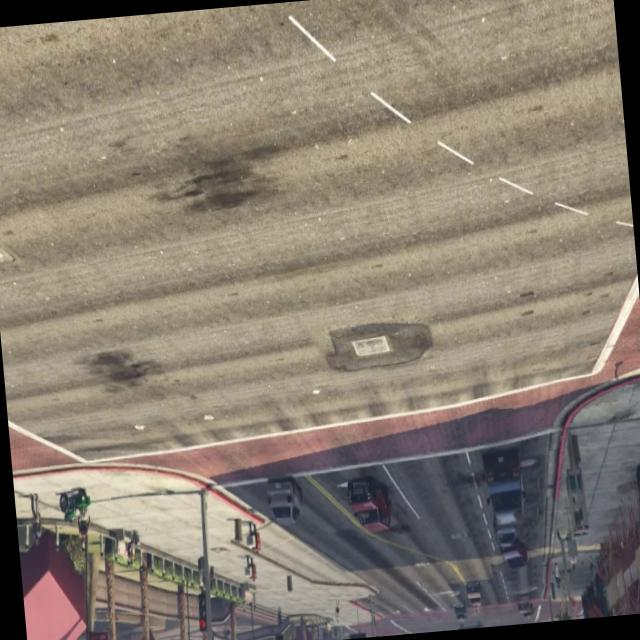Red-Signal: (183, 572, 216, 640), (262, 615, 293, 640)
